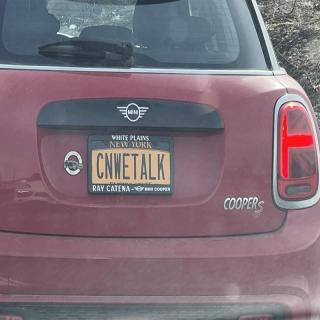license: (88, 136, 175, 195)
